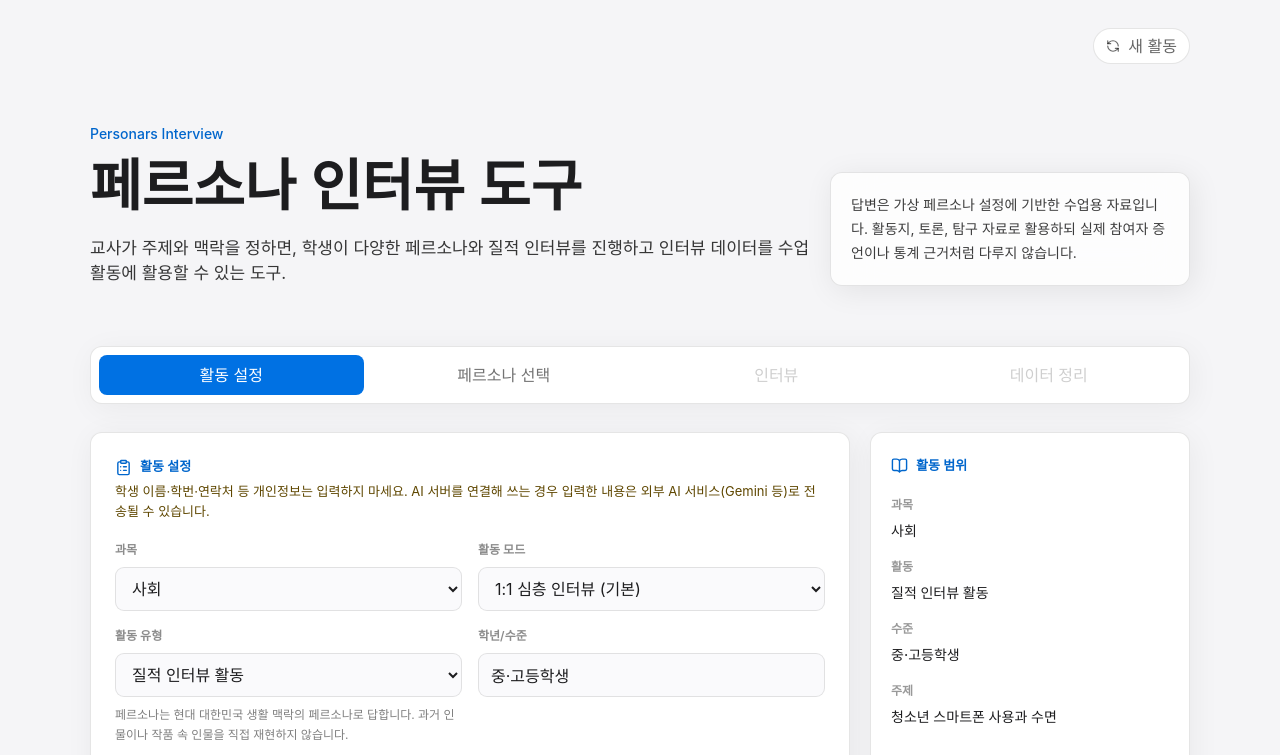
Test: offers activity type presets and a custom activity type field
expect the text "과거 인물이나 작품 속 인물을 직접 재현하지 않습니다" is shown: met, box [115,707,455,742]
Select "직접 입력" in the dropdown labelled "활동 유형": x=288, y=675 [115,653,462,697]
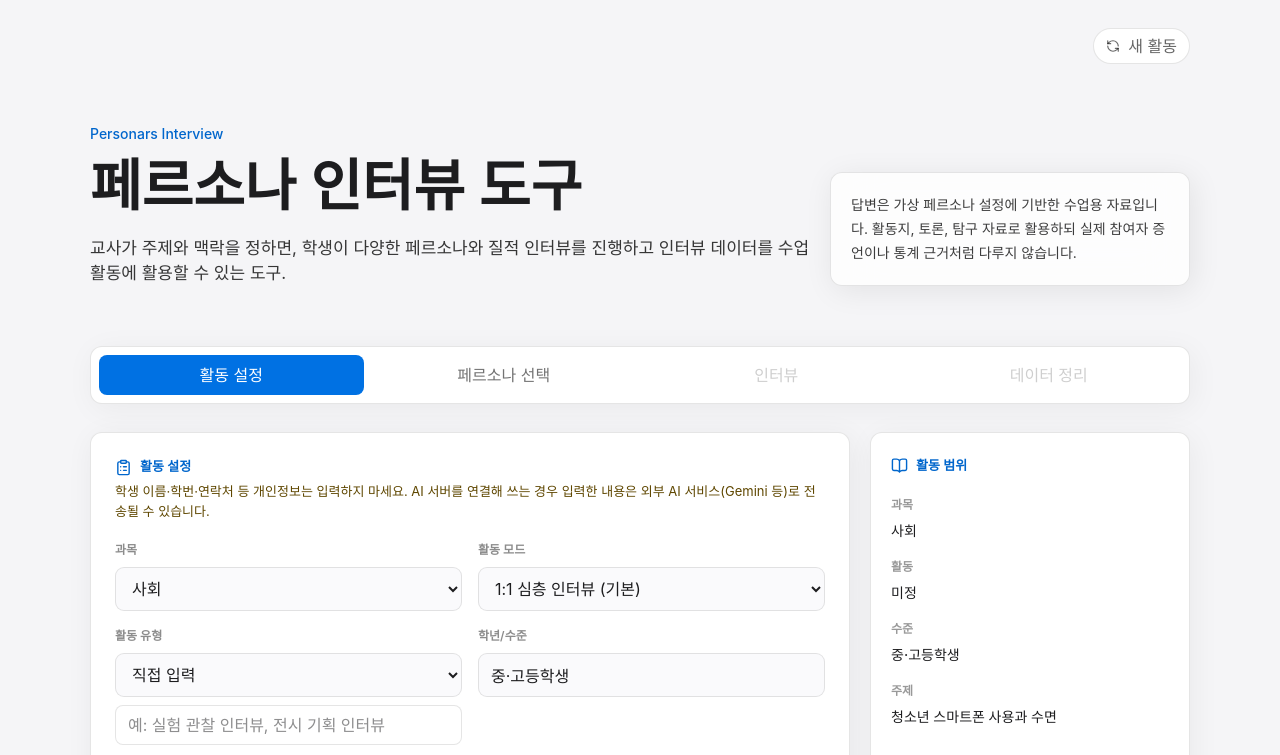
In the field named "활동 유형 직접 입력": x=288, y=725 [115,705,462,745], type "실험 관찰 인터뷰"
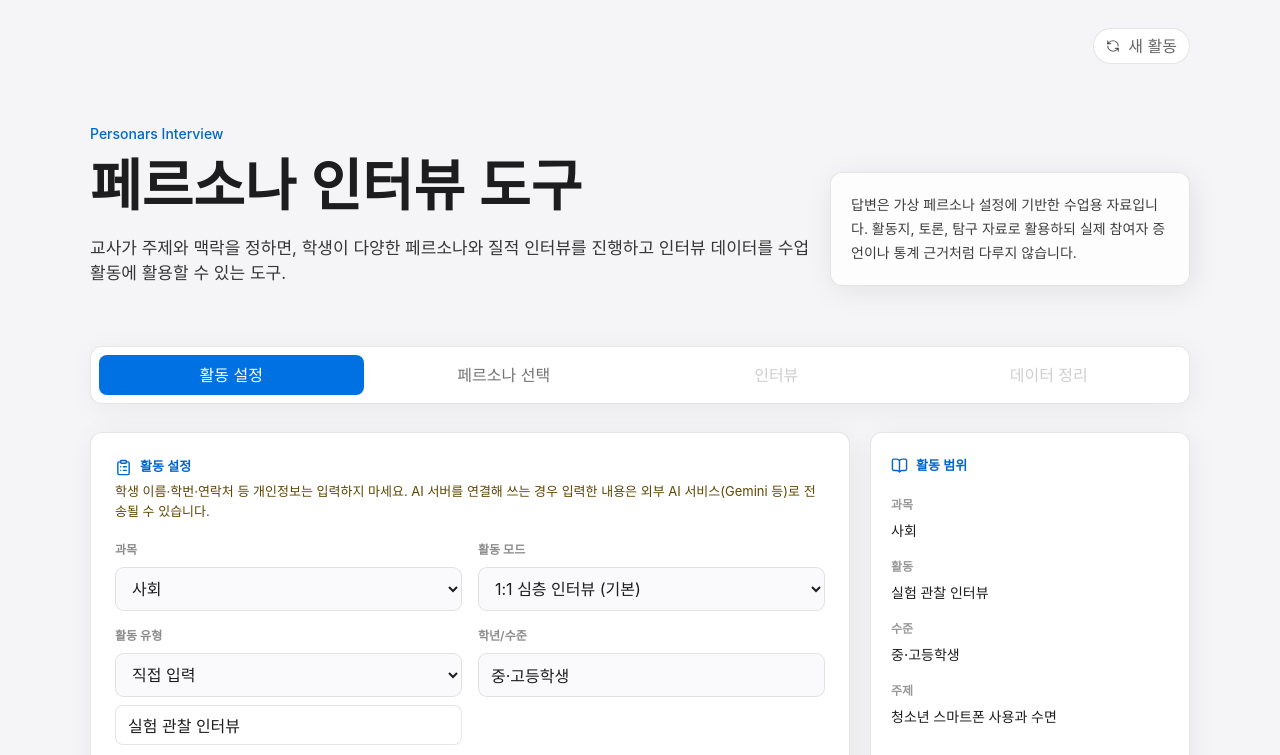
expect the text "실험 관찰 인터뷰" is shown: met, box [891,584,989,601]
